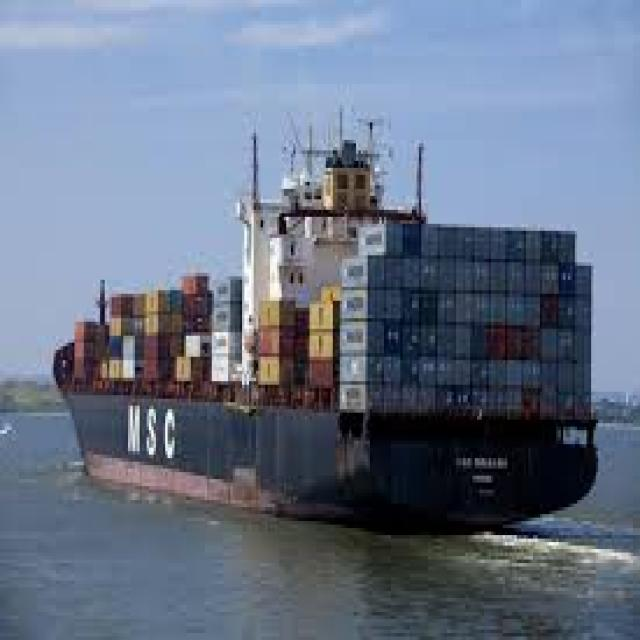cargoship: (34, 112, 602, 520)
